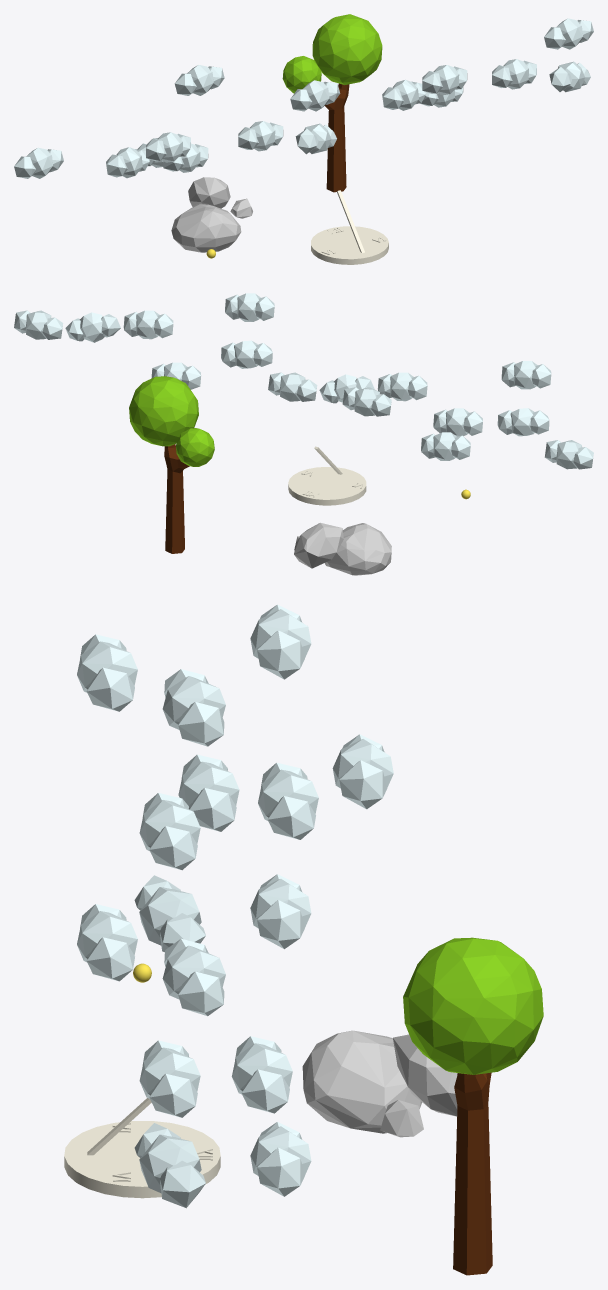
File: sundial.gltf
3 renders of one model, top to bottom at view 1: azimuth 30°, elevation 25°; view 2: azimuth 150°, elevation 25°; view 3: azimuth 270°, elevation 25°, orthographic. The views are drawn at different scales.
Parts seen in each view (by area): view 1: Icosphere_Icosphere_002, MoText_2, Sphere, Cylinder_014, Cloud_1_1_3, Cloud_1, Cloud_1_4, Cloud_1_4_3, Cloud_1_2_3, Cloud_1_2_2, Cloud_1_5, Cloud_1_2 (+8 smaller); view 2: Icosphere_Icosphere_002, MoText_2, Sphere, Cylinder_014, Sphere_001, Icosphere_001_Icosphere_003, Cloud_1_1, Cloud_1_3_3, Cloud_1_6, Cloud_1_5, Cloud_1_3, Cloud_1_2_2 (+9 smaller); view 3: Icosphere_Icosphere_002, Sphere, Cylinder_014, MoText_2, Cloud_1_6, Cloud_1_3_3, Cloud_1_1, Cloud_1_5, Cloud_1_2_2, Cloud_1_2_3, Cloud_1_3, Cloud_1_3_2 (+9 smaller).
Part boxes in pixels (x1,y1,x2,y2): Icosphere_Icosphere_002: (312,14,382,84); MoText_2: (311,190,388,264); Sphere: (171,204,241,252); Cylinder_014: (325,83,349,192); Cloud_1_1_3: (174,65,224,95); Cloud_1: (14,147,63,178); Cloud_1_4: (544,18,593,49); Cloud_1_4_3: (290,80,340,111); Cloud_1_2_3: (238,121,283,151); Cloud_1_2_2: (422,65,467,95); Cloud_1_5: (492,59,536,89); Cloud_1_2: (146,132,190,162); Icosphere_Icosphere_002: (129,376,198,446); MoText_2: (288,446,366,505); Sphere: (324,523,391,575); Cylinder_014: (164,444,189,553); Sphere_001: (294,522,343,568); Icosphere_001_Icosphere_003: (176,428,214,466); Cloud_1_1: (497,408,549,436); Cloud_1_3_3: (221,340,272,368); Cloud_1_6: (65,312,120,342); Cloud_1_5: (123,310,173,339); Cloud_1_3: (421,432,470,460); Cloud_1_2_2: (225,293,274,321); Icosphere_Icosphere_002: (403,937,543,1074); Sphere: (302,1030,421,1133); Cylinder_014: (453,1072,492,1275); MoText_2: (64,1098,220,1198); Cloud_1_6: (134,1123,205,1208); Cloud_1_3_3: (162,938,225,1016); Cloud_1_1: (162,669,225,746); Cloud_1_5: (139,1040,200,1117); Cloud_1_2_2: (77,904,137,981); Cloud_1_2_3: (139,793,200,870); Cloud_1_3: (258,762,318,839); Cloud_1_3_2: (231,1036,292,1113).
Size of the model in its own units: 853 by 264 by 306.
